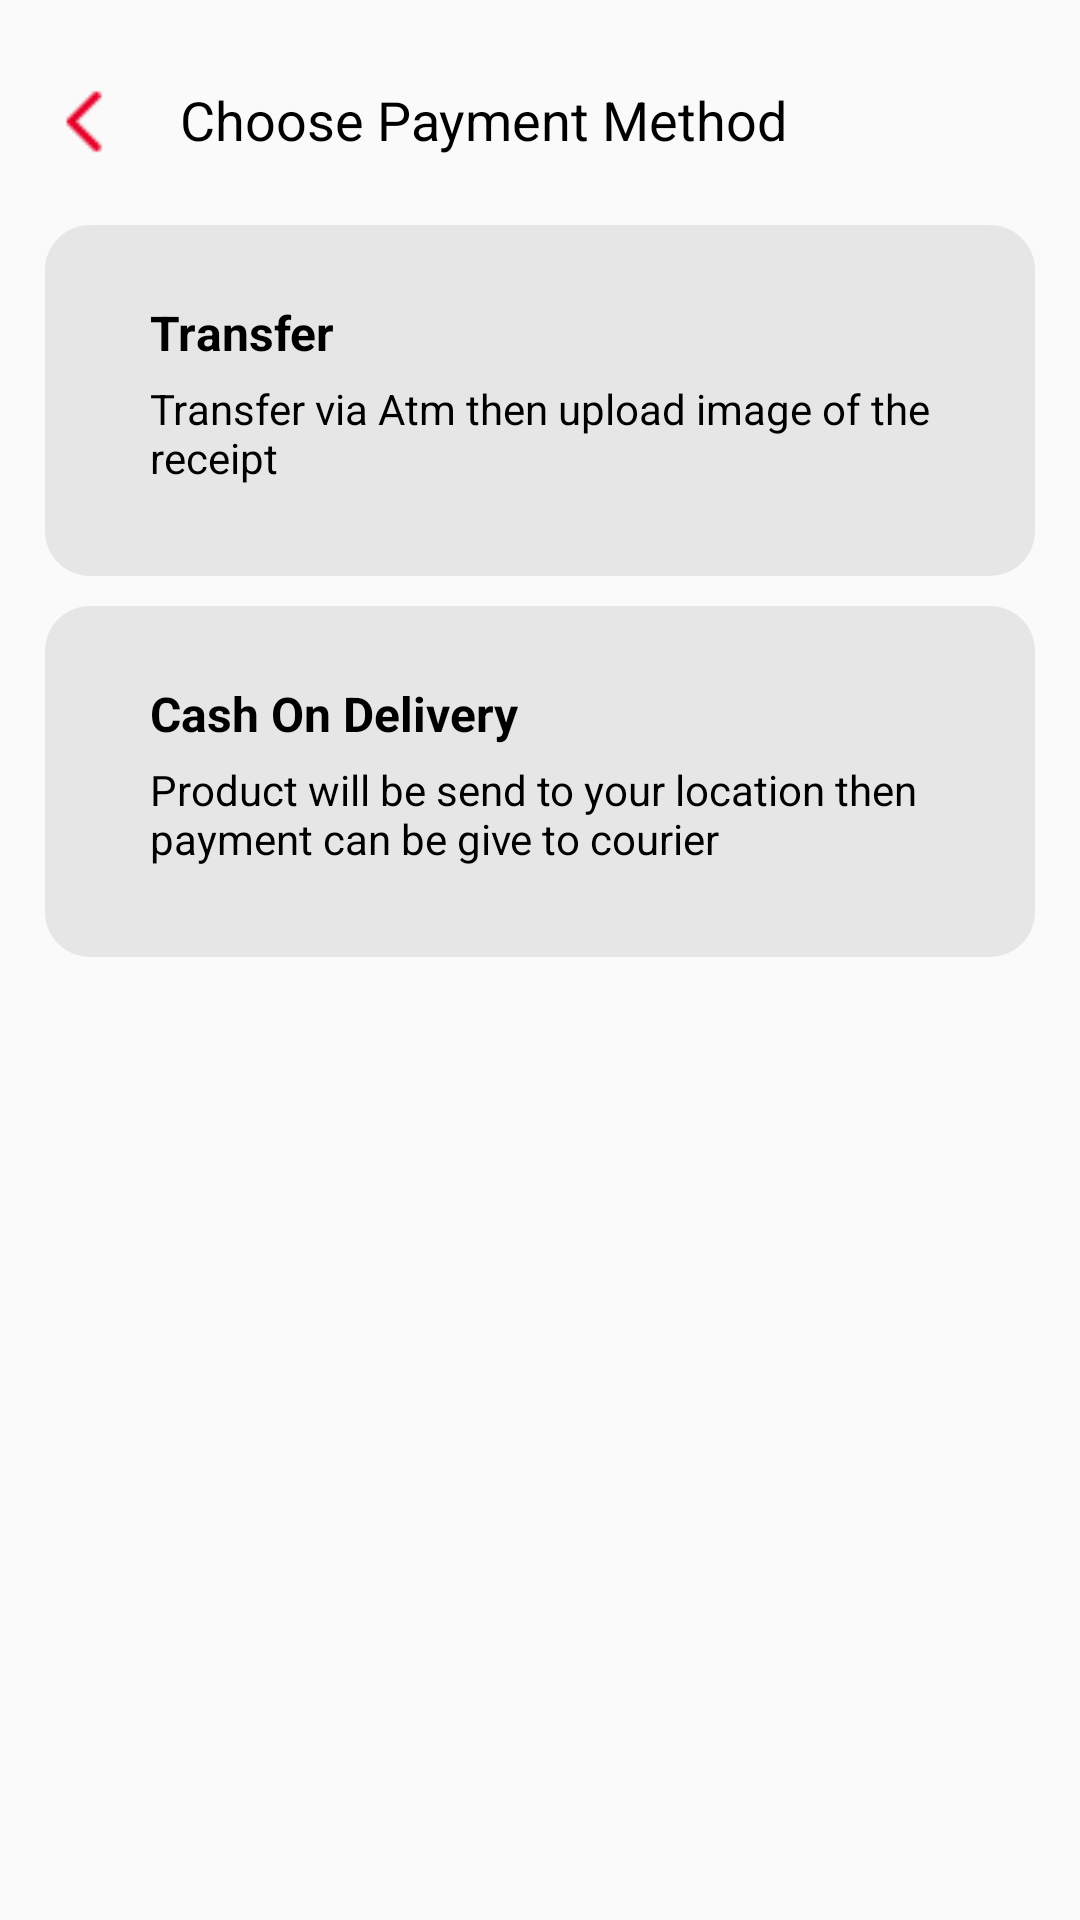

Point at icon controls on the screen. Image size 1080 x 1920, points as [x,y].
back: [84,121]
